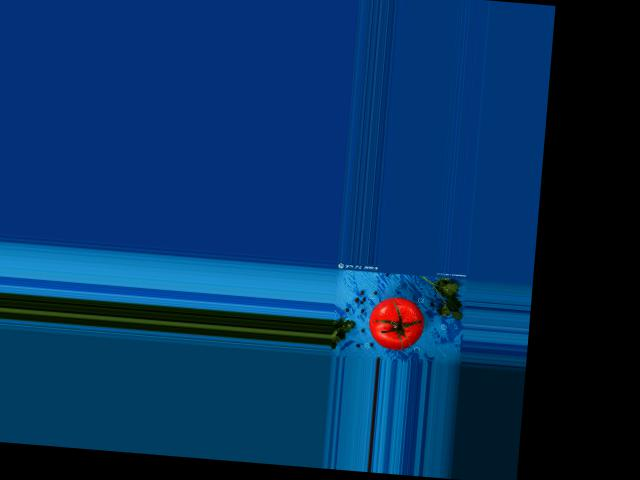tomato: (367, 295, 426, 351)
